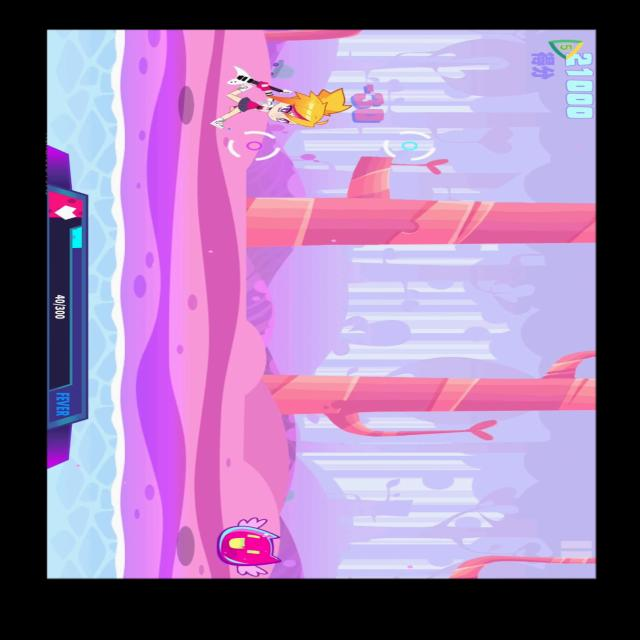mao: (209, 516, 285, 577)
